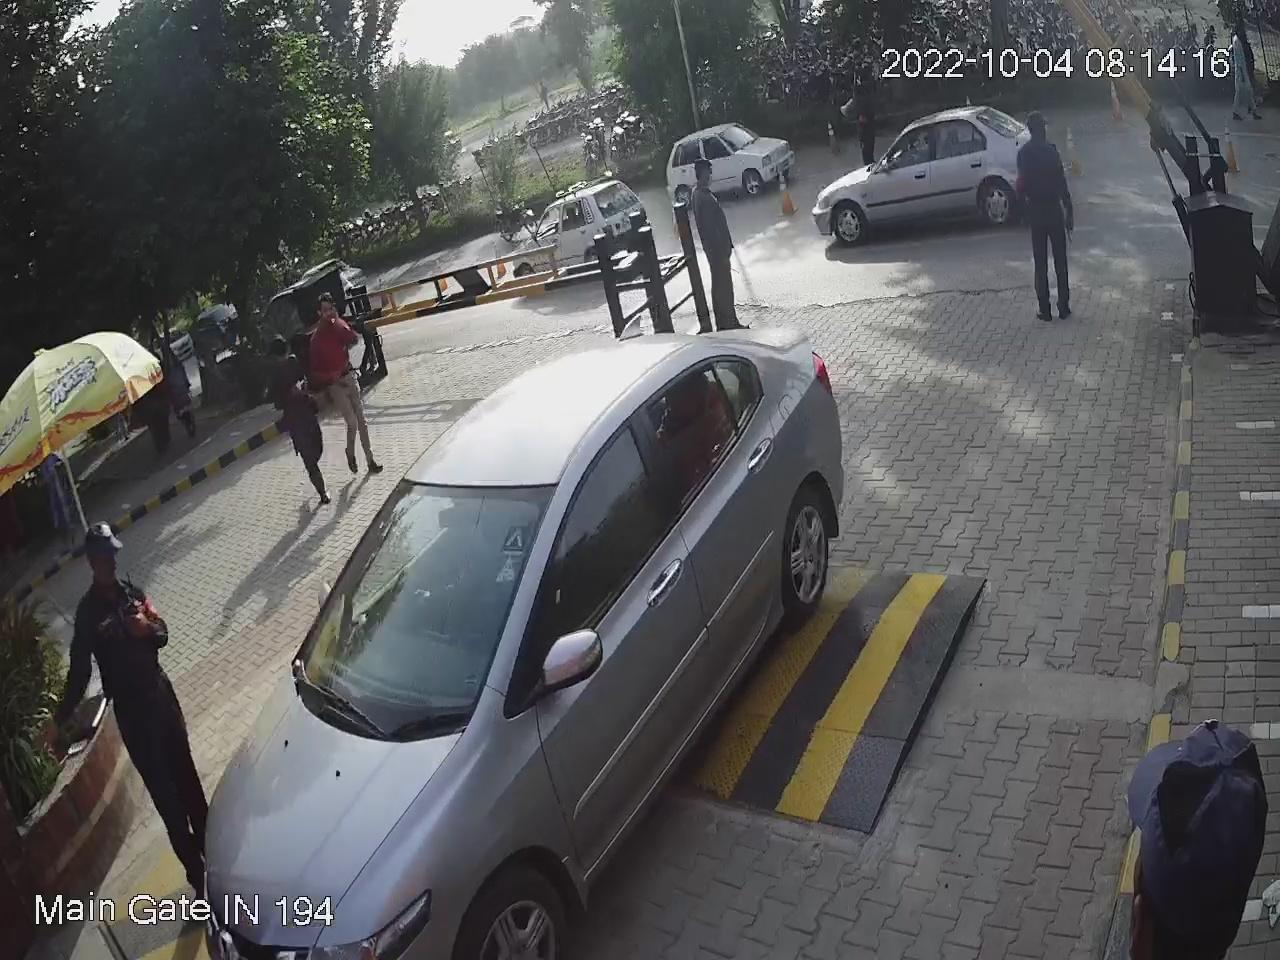windshield: (280, 473, 560, 735)
